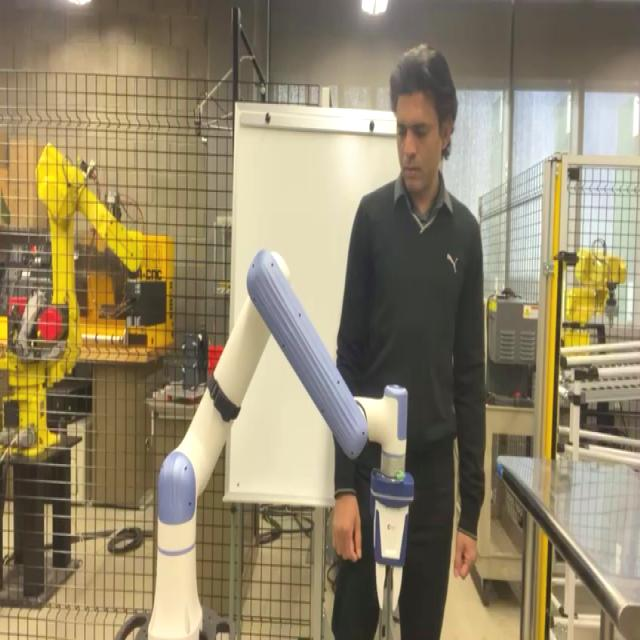robot: (115, 247, 414, 637)
